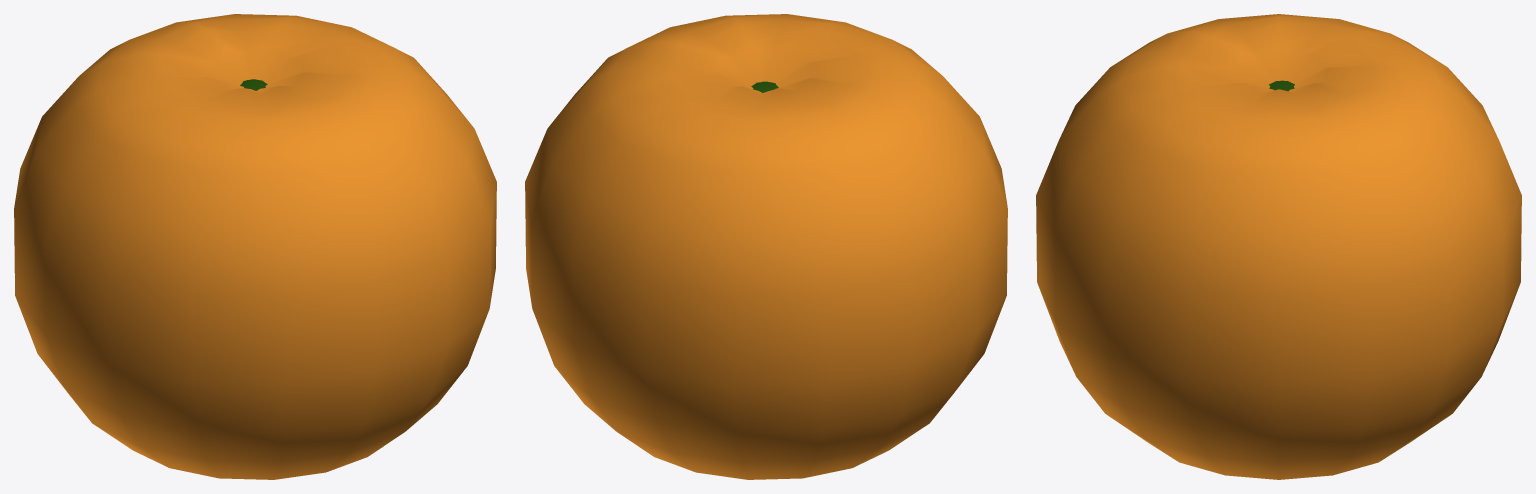
File: LaranjaModel.fbx
3 views of the same model, side by side, from view 1: azimuth 30°, elevation 25°; view 2: azimuth 150°, elevation 25°; view 3: azimuth 270°, elevation 25° (orthographic).
Parts seen in each view (by area): view 1: orange_lp; view 2: orange_lp; view 3: orange_lp.
Boxes of the visible parts, x1=… form: orange_lp: x1=14, y1=14, x2=496, y2=479; orange_lp: x1=525, y1=14, x2=1007, y2=479; orange_lp: x1=1036, y1=14, x2=1521, y2=479.
Bounding box in the file's own units: 198 × 170 × 198.
